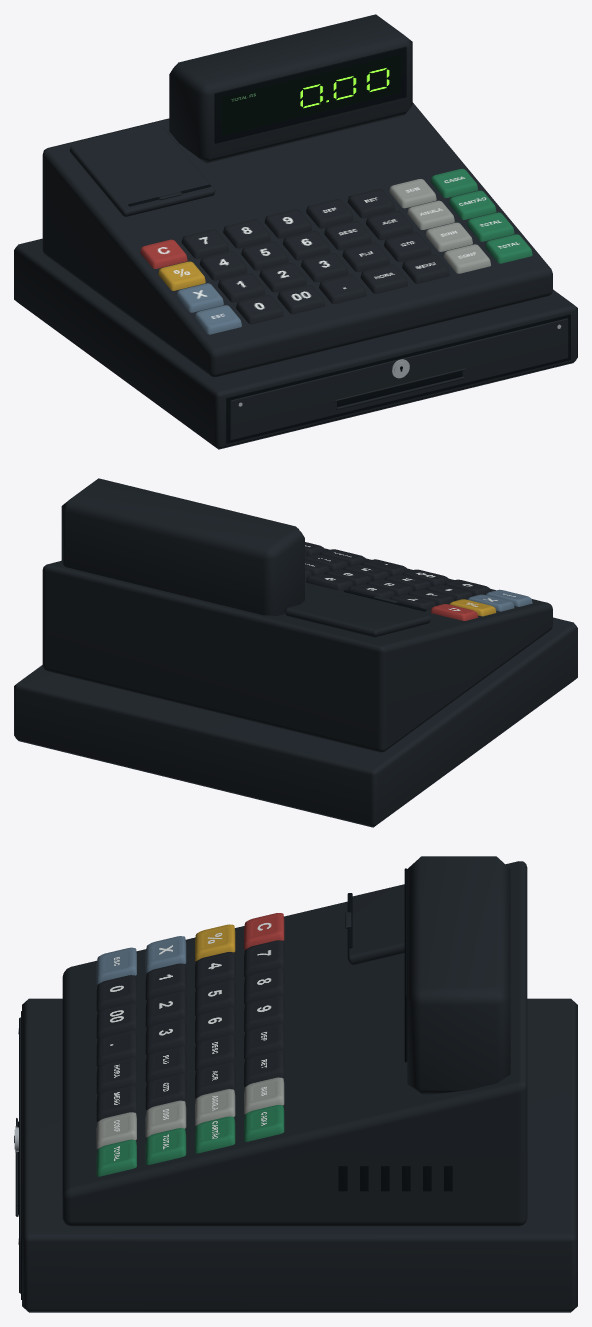
File: caixa_registradora_realista.glb
3 views of the same model, one above another, from view 1: azimuth 30°, elevation 25°; view 2: azimuth 150°, elevation 25°; view 3: azimuth 270°, elevation 25° (orthographic). The views are drawn at different scales.
Visible parts, largest first — view 1: Corpo principal inclinado, Base da gaveta, Cabecote do visor, Frente da gaveta, Tampa do rolo de papel, Tela com total, Contorno do visor, Contorno da gaveta, Botao moldado 13, Botao moldado 3, Botao moldado 9, Botao moldado 26 (+29 smaller); view 2: Corpo principal inclinado, Base da gaveta, Cabecote do visor, Tampa do rolo de papel, Botao moldado 1, Botao moldado 4; view 3: Corpo principal inclinado, Base da gaveta, Cabecote do visor, Tampa do rolo de papel, Botao moldado 24, Botao moldado 16, Botao moldado 32, Botao moldado 8, Botao moldado 19, Botao moldado 22, Botao moldado 23, Botao moldado 18 (+25 smaller).
Boxes of the visible parts, box(x1,y1,x2,y2) form: Corpo principal inclinado: box(42, 102, 552, 376); Base da gaveta: box(14, 238, 577, 449); Cabecote do visor: box(169, 14, 412, 163); Frente da gaveta: box(230, 318, 568, 440); Tampa do rolo de papel: box(69, 124, 215, 216); Tela com total: box(221, 54, 400, 135); Contorno do visor: box(214, 46, 406, 143); Contorno da gaveta: box(226, 314, 570, 443); Botao moldado 13: box(324, 221, 371, 250); Botao moldado 3: box(223, 219, 270, 248); Botao moldado 9: box(158, 261, 205, 290); Botao moldado 26: box(236, 295, 283, 324); Corpo principal inclinado: box(42, 548, 552, 752); Base da gaveta: box(14, 617, 577, 827); Cabecote do visor: box(61, 478, 304, 615); Tampa do rolo de papel: box(285, 594, 430, 637); Botao moldado 1: box(430, 604, 478, 620); Botao moldado 4: box(306, 573, 353, 590); Corpo principal inclinado: box(62, 861, 527, 1226); Base da gaveta: box(22, 998, 577, 1312); Cabecote do visor: box(407, 856, 510, 1095); Tampa do rolo de papel: box(347, 884, 404, 965); Botao moldado 24: box(145, 1128, 186, 1164); Botao moldado 16: box(195, 1116, 235, 1153); Botao moldado 32: box(96, 1139, 136, 1176); Botao moldado 8: box(244, 1105, 284, 1141); Botao moldado 19: box(145, 991, 186, 1027); Botao moldado 22: box(145, 1073, 186, 1109); Botao moldado 23: box(145, 1100, 186, 1137); Botao moldado 18: box(145, 963, 186, 1000).
Bounding box in the file's own units: 0.3242 × 0.1985 × 0.3215.
Materials: 6 (2 with a texture image).
